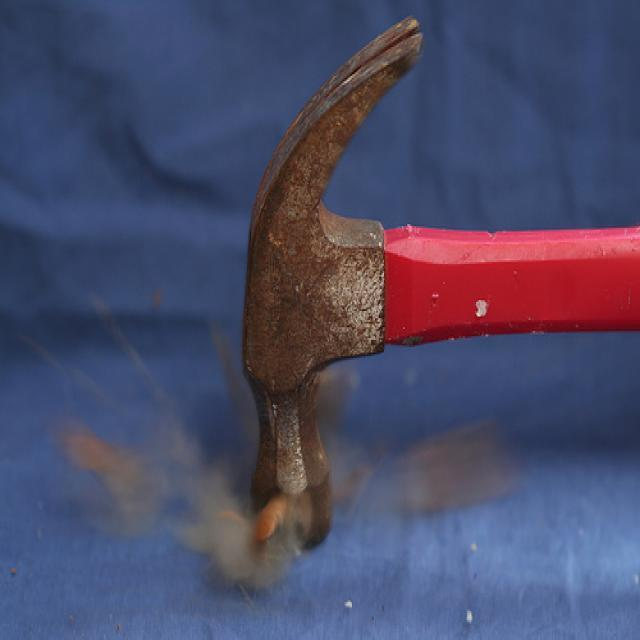hammer: (230, 4, 640, 588)
